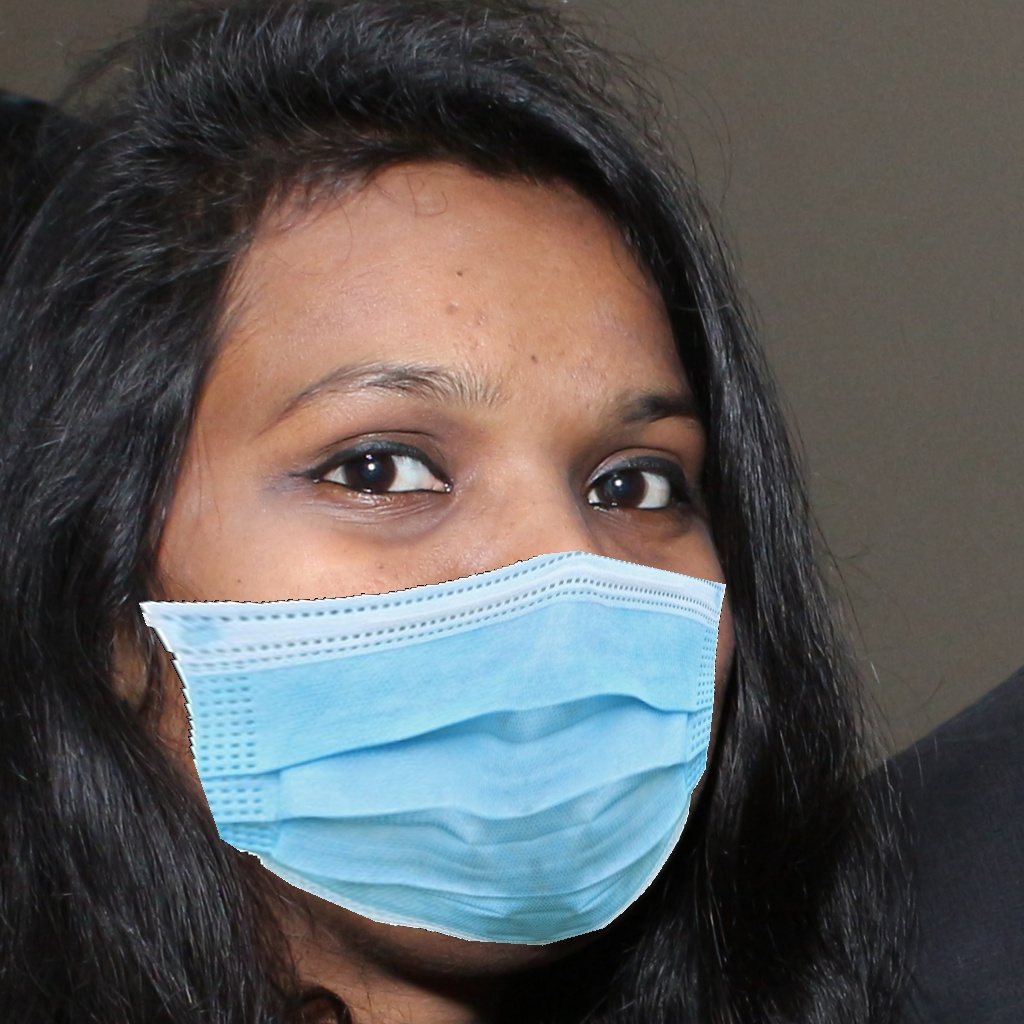Mask: (138, 357, 742, 942)
